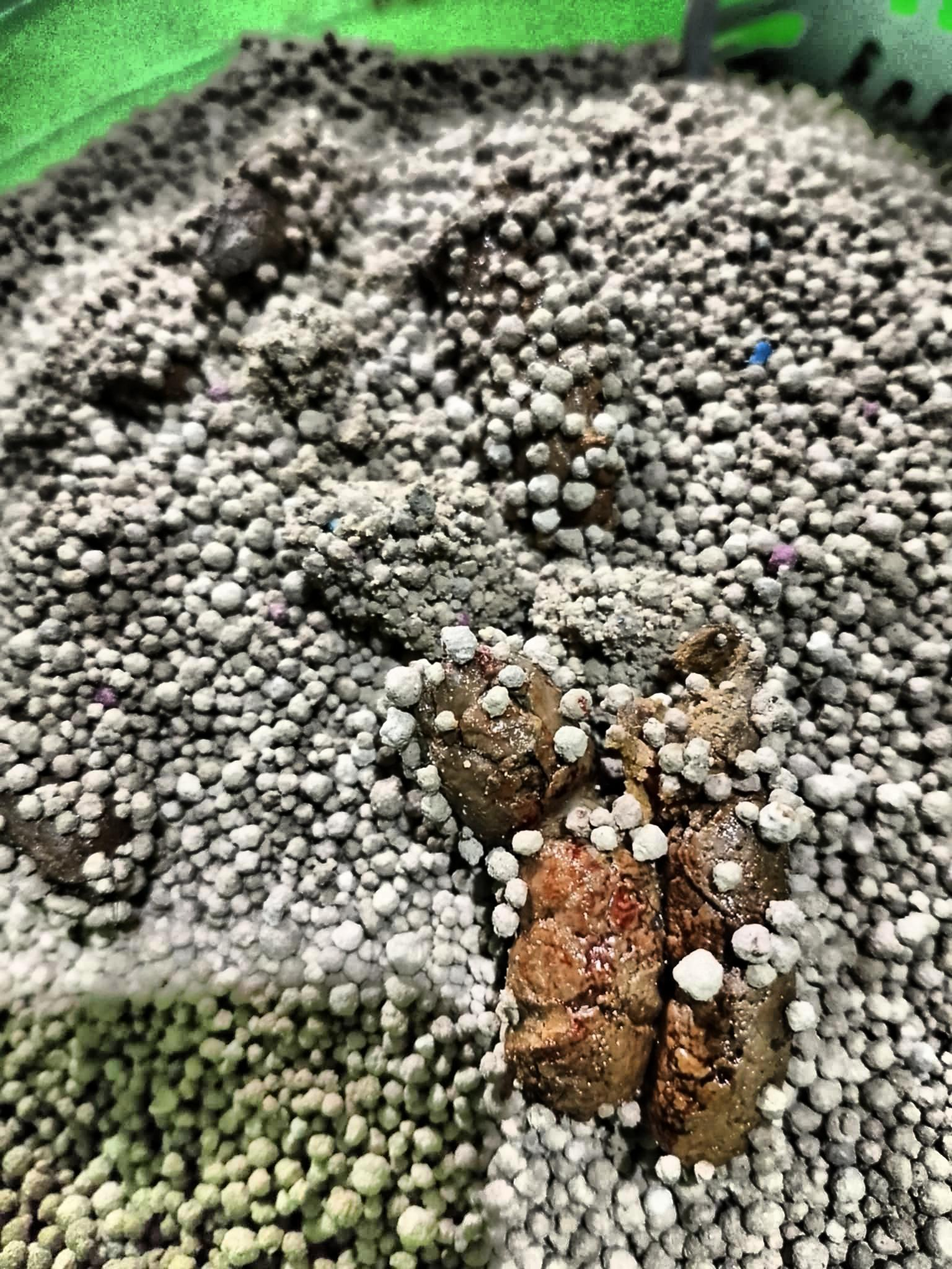litter_sand: (279, 412, 538, 664), (528, 533, 722, 664), (218, 293, 382, 420)
poop: (378, 626, 668, 1129), (602, 622, 815, 1184), (39, 107, 377, 426), (406, 164, 635, 556), (0, 672, 160, 928)
